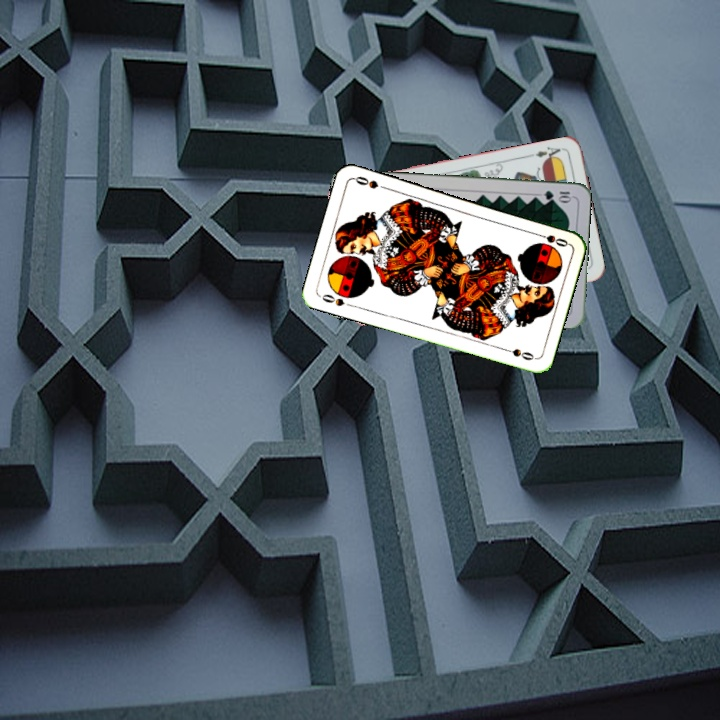EA: (532, 143, 566, 163)
G10: (540, 187, 574, 203)
SO: (531, 229, 571, 249), (318, 290, 347, 309)
